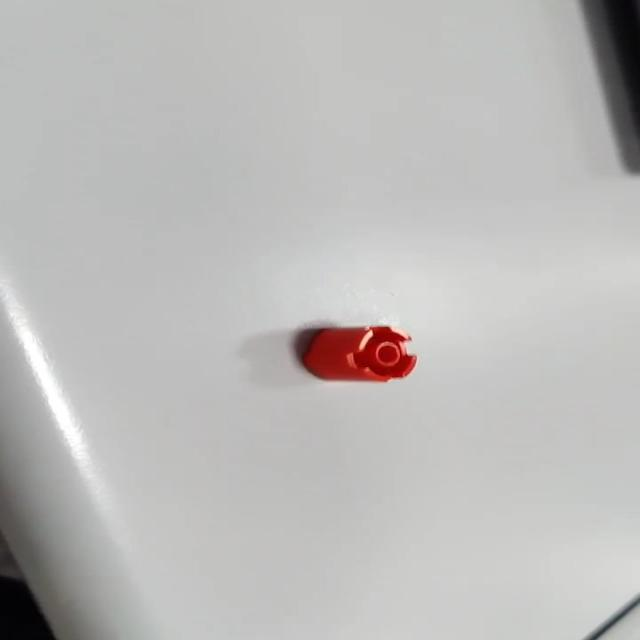S2x2x1: (302, 324, 418, 383)
